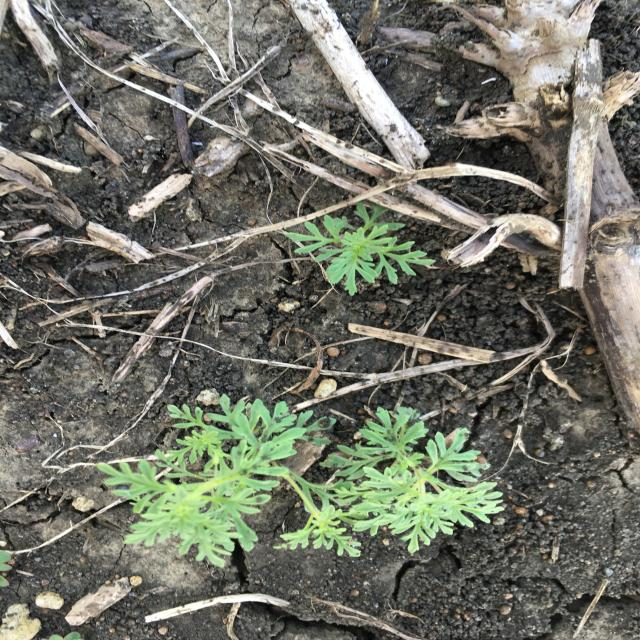Ragweed: (94, 390, 508, 571), (282, 197, 438, 300)
